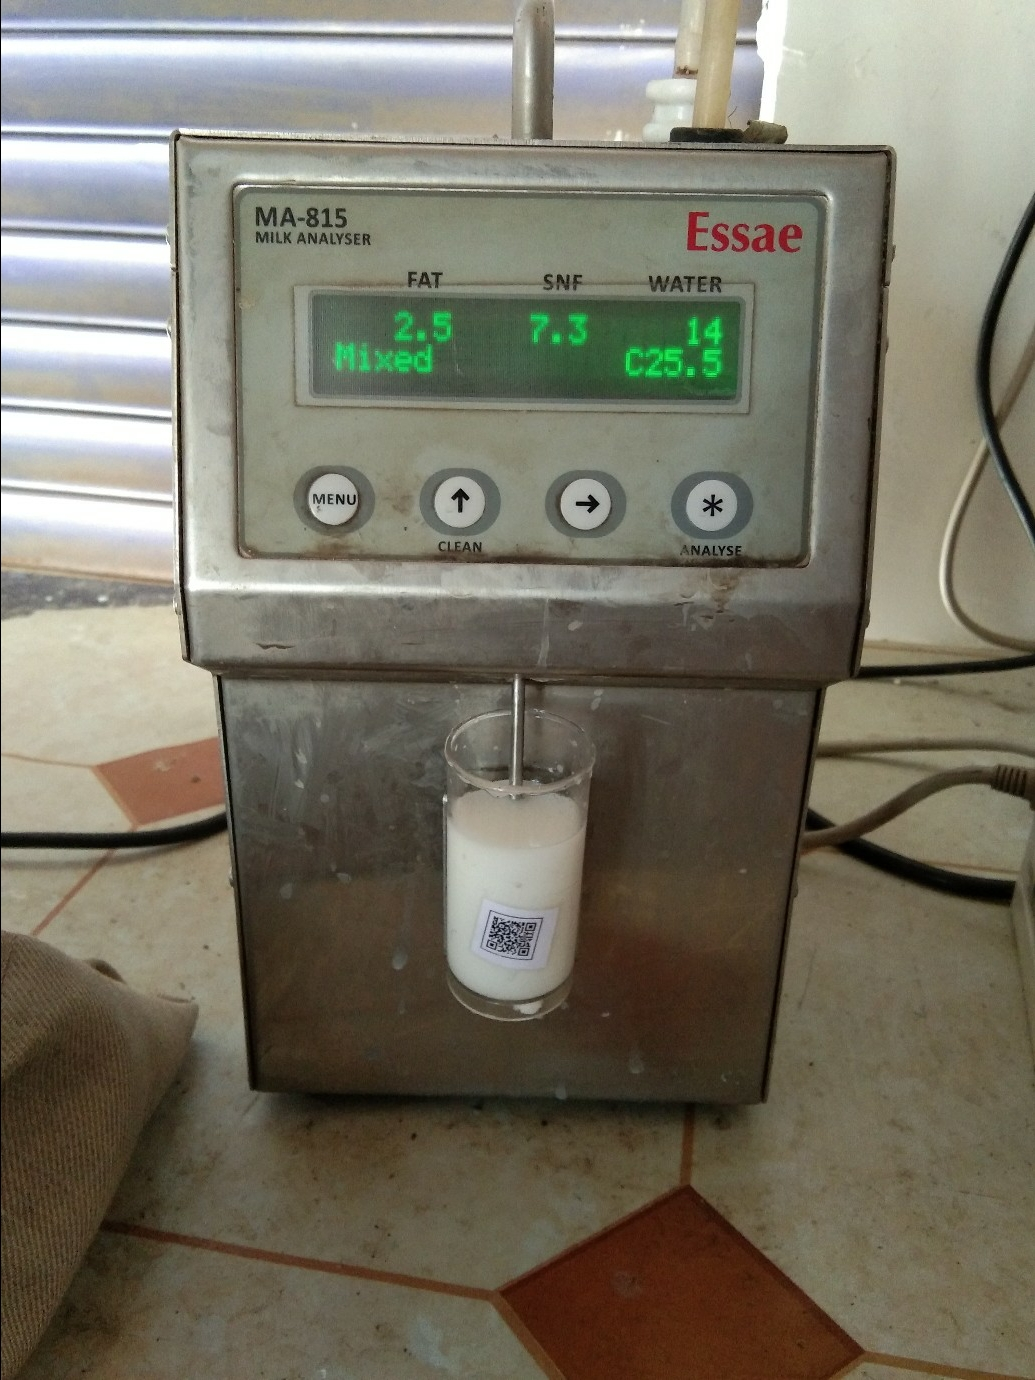lcd: (282, 279, 766, 432)
qr: (463, 906, 569, 974)
